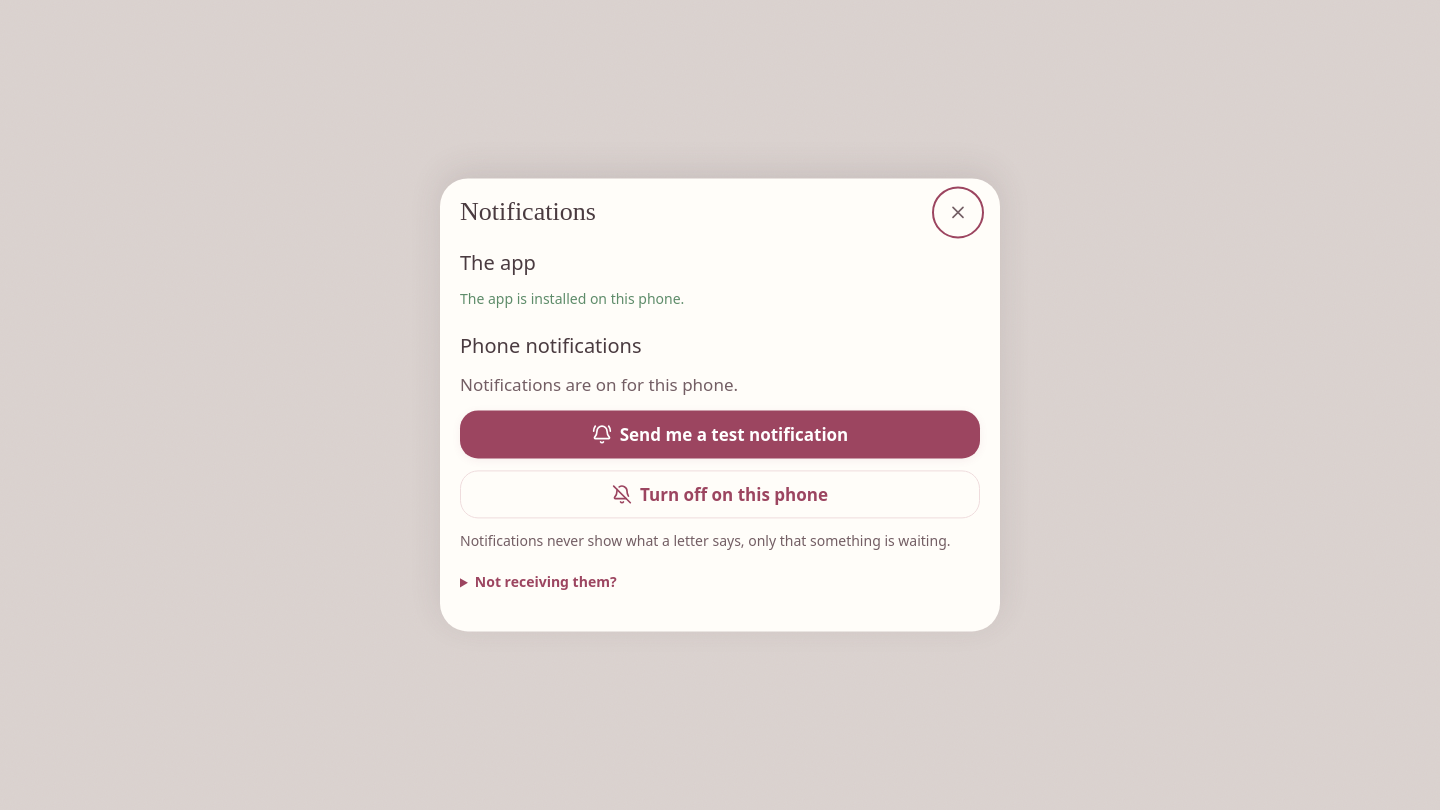
Test: NotificationsSheet diagnostics › shows the real reason when the test request fails (e.g. migration missing)
Step 1. Click the button "Send me a test notification" → (720,435), box [460,411,980,459]
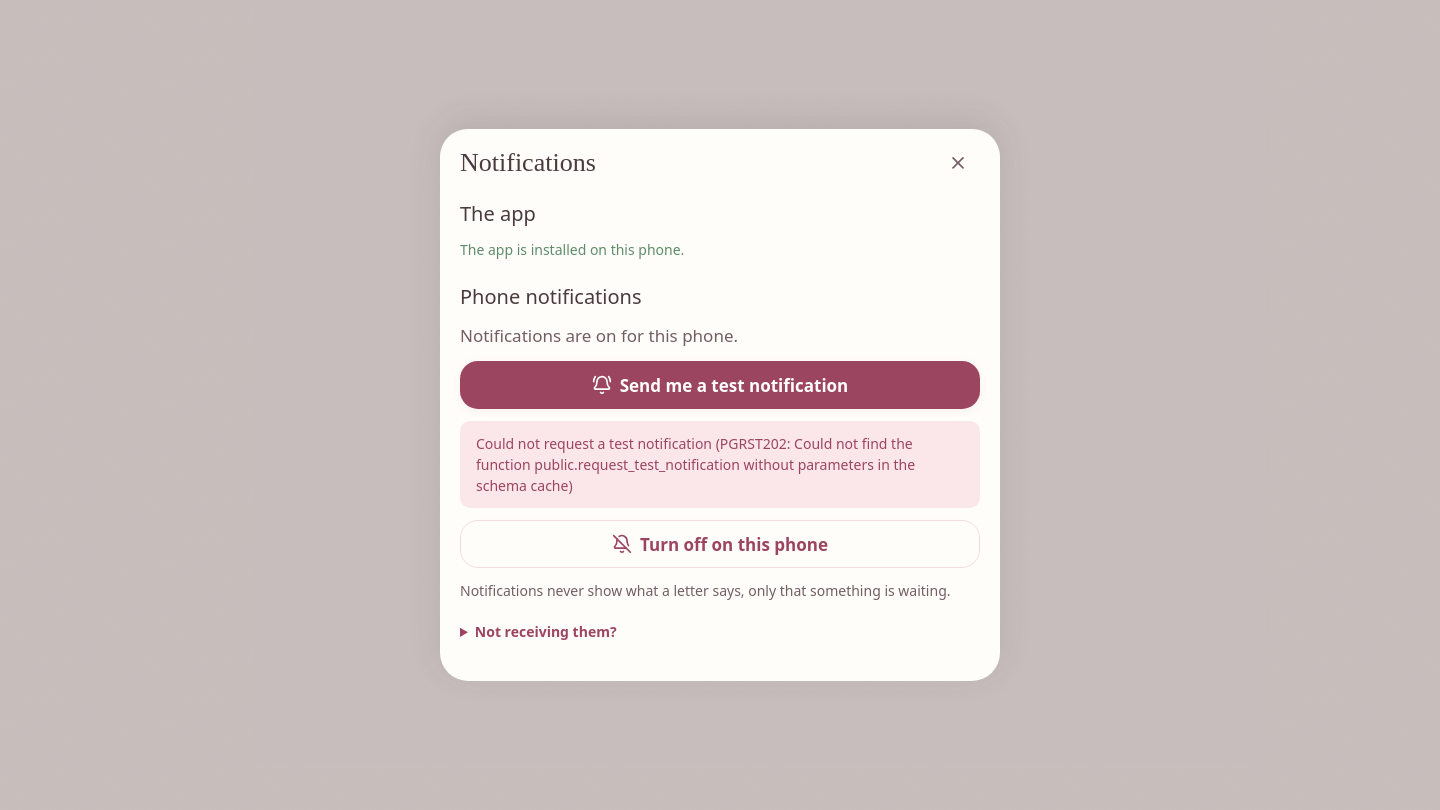
Expected: the text "PGRST202: Could not find the function public.request_test_notification" is shown, [476,434,915,495]
